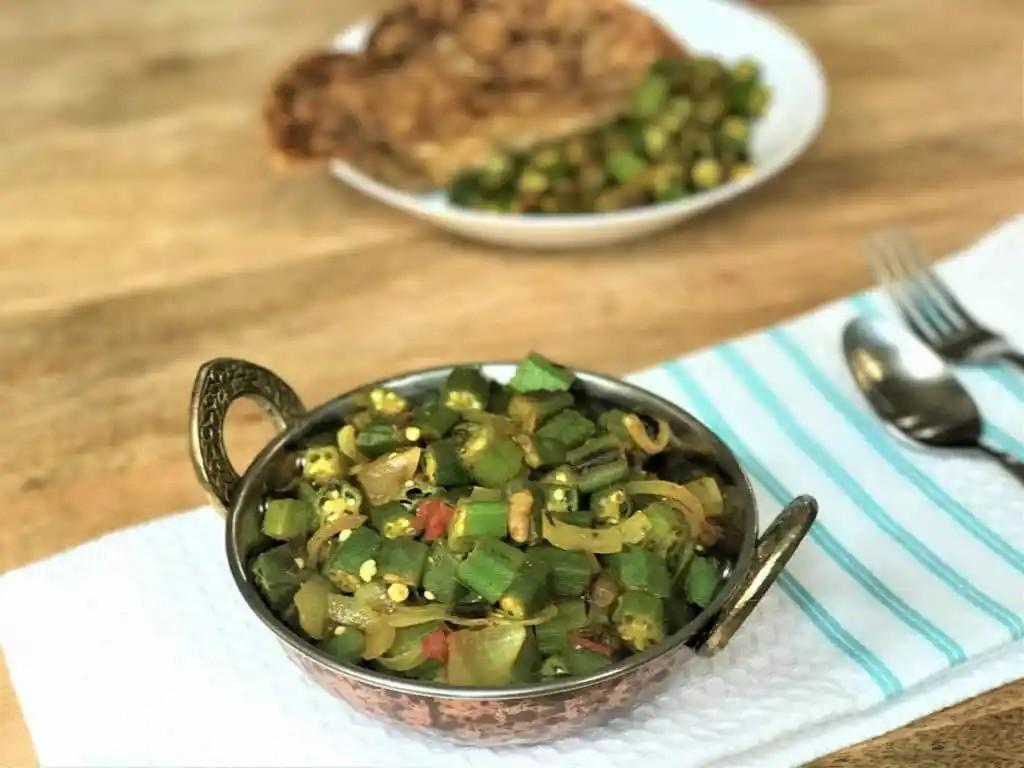BhindiMasala: (251, 349, 722, 688), (447, 59, 768, 214)
